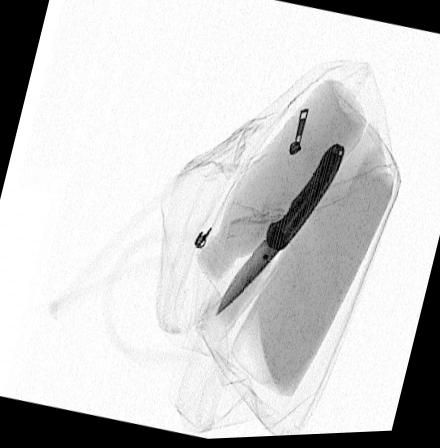Knife: (214, 145, 345, 317)
